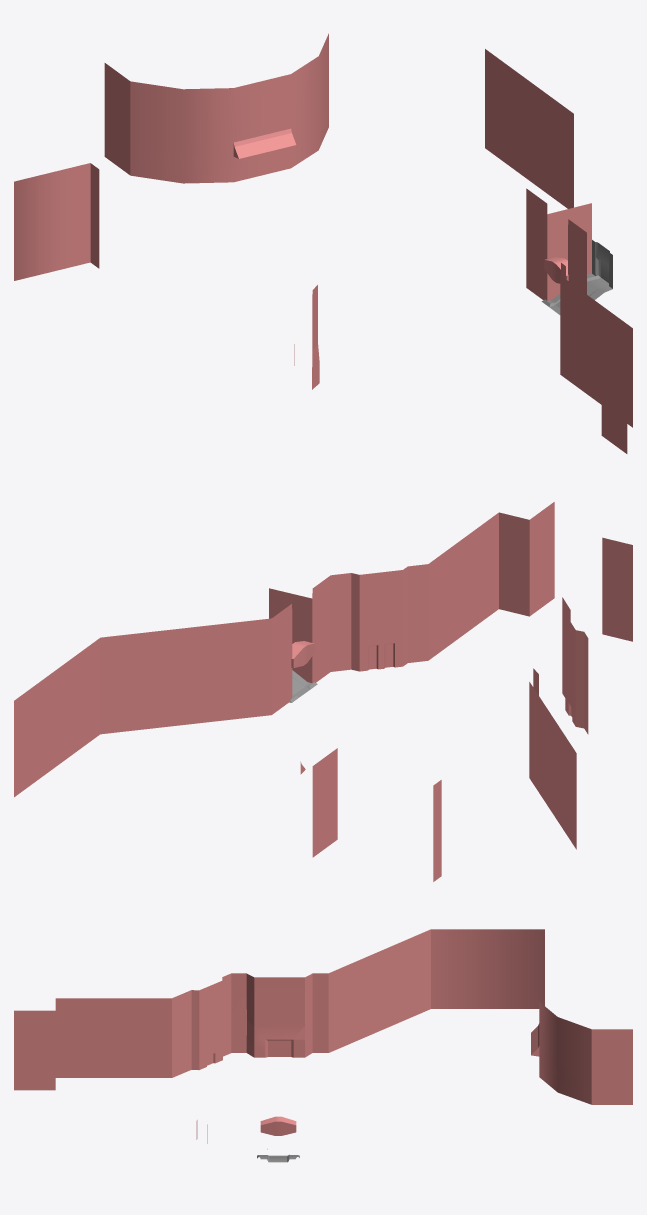
Rendered from SM_ENV_LKNVLD_Wall_COL.gltf.
The picture shows the model from 3 angles, top to bottom: view 1: azimuth 30°, elevation 25°; view 2: azimuth 150°, elevation 25°; view 3: azimuth 270°, elevation 25°; orthographic projection. The views are drawn at different scales.
Visible parts, largest first — view 1: SM_ENV_LKNVLD_Wall_COL; view 2: SM_ENV_LKNVLD_Wall_COL; view 3: SM_ENV_LKNVLD_Wall_COL.
Part boxes in pixels (bbox=[...]): SM_ENV_LKNVLD_Wall_COL: bbox=[14, 33, 632, 453]; SM_ENV_LKNVLD_Wall_COL: bbox=[14, 502, 632, 881]; SM_ENV_LKNVLD_Wall_COL: bbox=[14, 929, 632, 1162].
Size of the model in its own units: 123 by 34.22 by 168.
